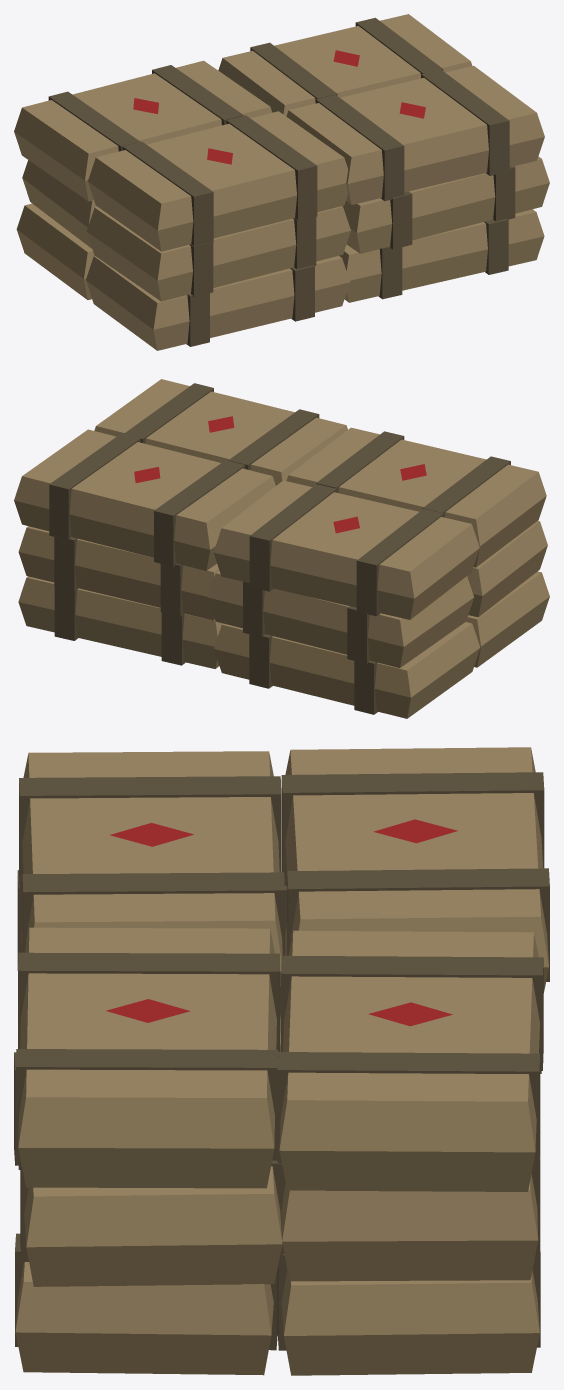
The model's file is Coke_Bricks_Stack.glb.
3 views of the same model, one above another, from view 1: azimuth 30°, elevation 25°; view 2: azimuth 150°, elevation 25°; view 3: azimuth 270°, elevation 25° (orthographic). The views are drawn at different scales.
Visible parts, largest first — view 1: Coke_Bricks_Stack; view 2: Coke_Bricks_Stack; view 3: Coke_Bricks_Stack.
Boxes of the visible parts, x1=… form: Coke_Bricks_Stack: x1=14, y1=14, x2=549, y2=350; Coke_Bricks_Stack: x1=14, y1=379, x2=549, y2=718; Coke_Bricks_Stack: x1=14, y1=747, x2=549, y2=1375.
Bounding box in the file's own units: 0.6112 × 0.218 × 0.3767.
